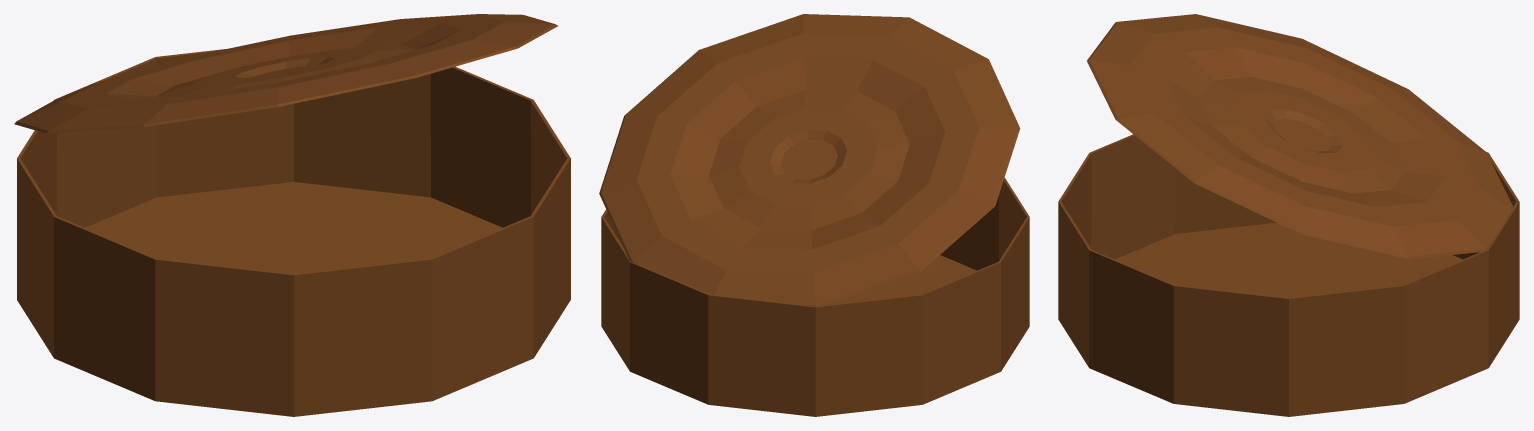
The model's file is консерв.blend1.fbx.
3 views of the same model, side by side, from view 1: azimuth 30°, elevation 25°; view 2: azimuth 150°, elevation 25°; view 3: azimuth 270°, elevation 25° (orthographic). The views are drawn at different scales.
Visible parts, largest first — view 1: Cylinder.002; view 2: Cylinder.002; view 3: Cylinder.002.
Part boxes in pixels (x1,y1,x2,y2): Cylinder.002: [14, 14, 570, 416]; Cylinder.002: [599, 14, 1029, 416]; Cylinder.002: [1058, 14, 1519, 416].
Size of the model in its own units: 15.48 by 9.61 by 15.48.
